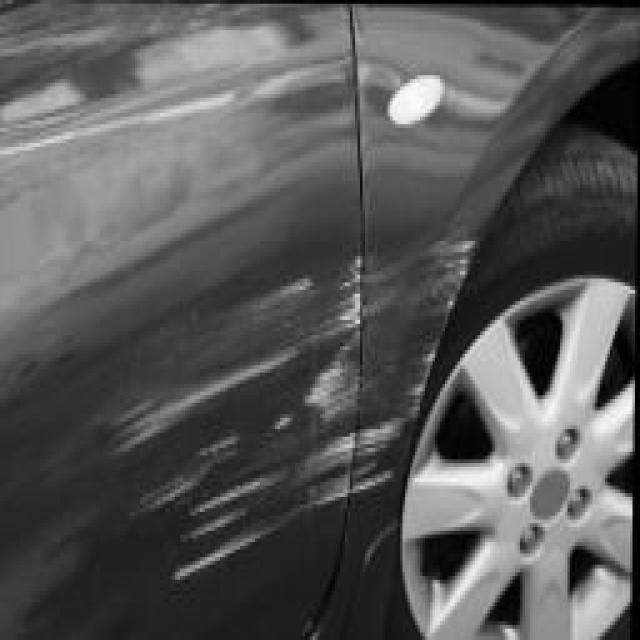Door: (78, 237, 364, 590)
Fender: (358, 200, 484, 536)
